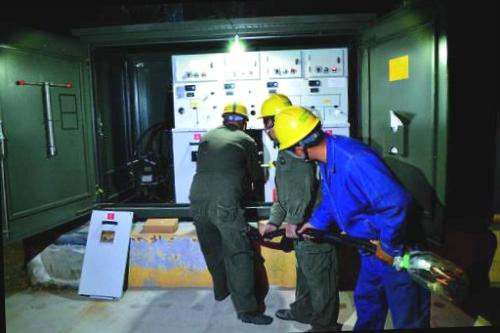person: (273, 100, 430, 331), (182, 98, 266, 326), (260, 91, 335, 332)
